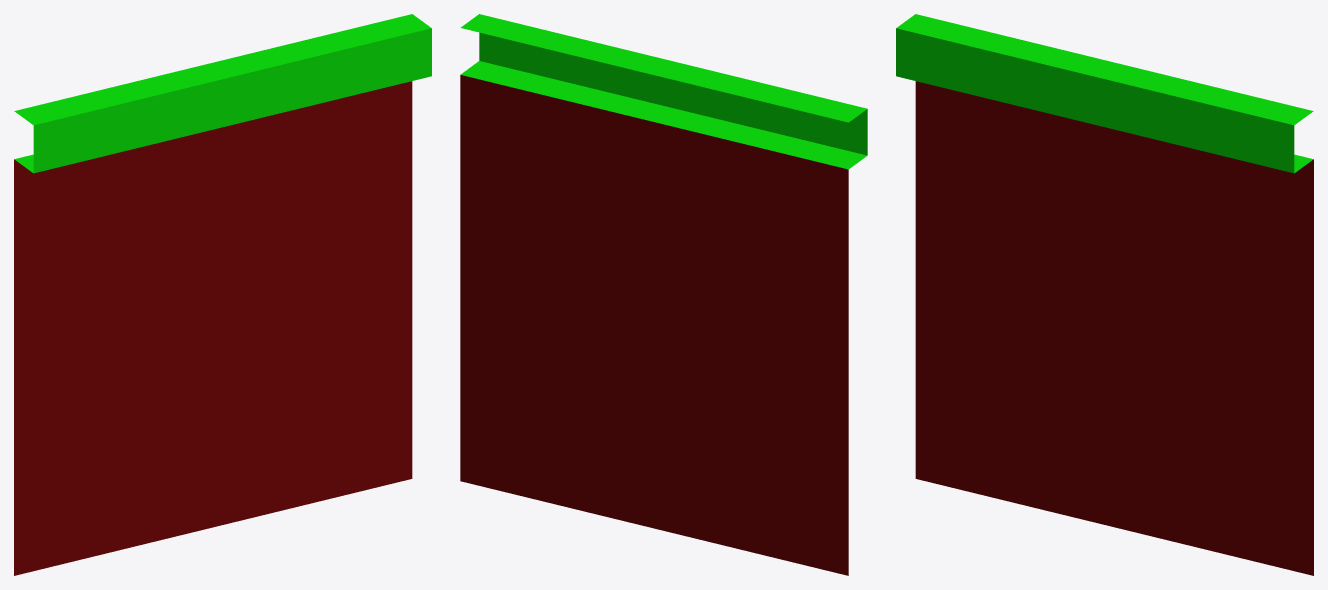
File: Wall.fbx
3 renders of one model, left to right at view 1: azimuth 30°, elevation 25°; view 2: azimuth 150°, elevation 25°; view 3: azimuth 330°, elevation 25°, orthographic. The views are drawn at different scales.
Visible parts, largest first — view 1: Build_1_Wall; view 2: Build_1_Wall; view 3: Build_1_Wall.
Part boxes in pixels (x1=…): Build_1_Wall: x1=14, y1=14, x2=431, y2=575; Build_1_Wall: x1=460, y1=14, x2=867, y2=575; Build_1_Wall: x1=896, y1=14, x2=1313, y2=575.
Bounding box in the file's own units: 260 × 22 × 290.
